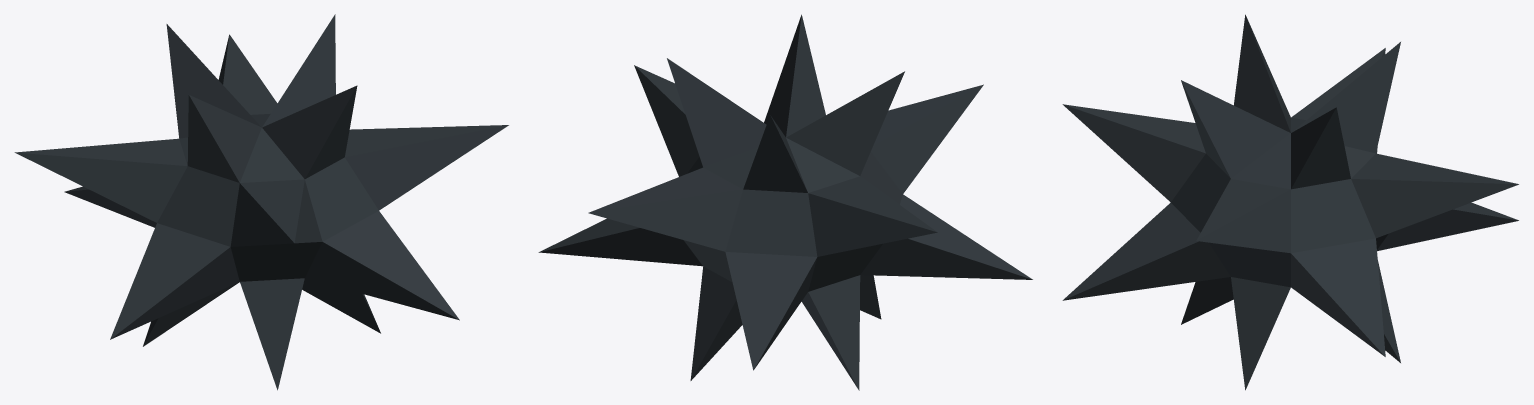
Rendered from Sea Urcin 2.fbx.
3 renders of one model, left to right at view 1: azimuth 30°, elevation 25°; view 2: azimuth 150°, elevation 25°; view 3: azimuth 270°, elevation 25°, orthographic.
Parts seen in each view (by area): view 1: Sphere001; view 2: Sphere001; view 3: Sphere001.
Boxes of the visible parts, x1,y1,x2,y2 form: Sphere001: (14,14,508,390); Sphere001: (538,14,1032,390); Sphere001: (1062,14,1518,390).
Size of the model in its own units: 38.81 by 26.56 by 38.81.
Materials: 1 (1 with a texture image).
